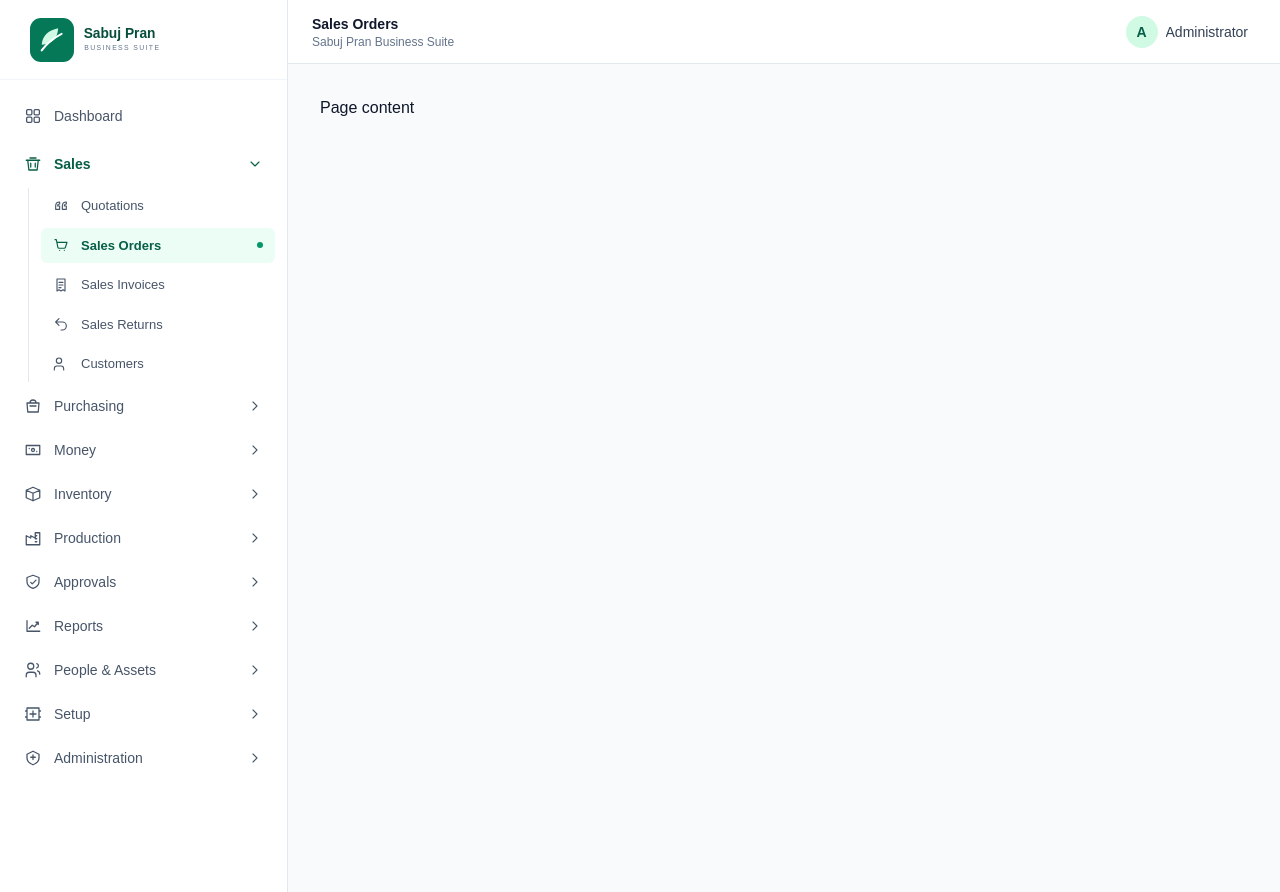
Test: SessionShell navigation › uses distinct group icons and toggles submenu items with the chevron control
Expected: the link "Purchase Orders" is not shown
What coordinates should you click on to do the following:
click the button "Purchasing"
I would click on:
 (89, 406)
Its box is [12, 386, 275, 426].
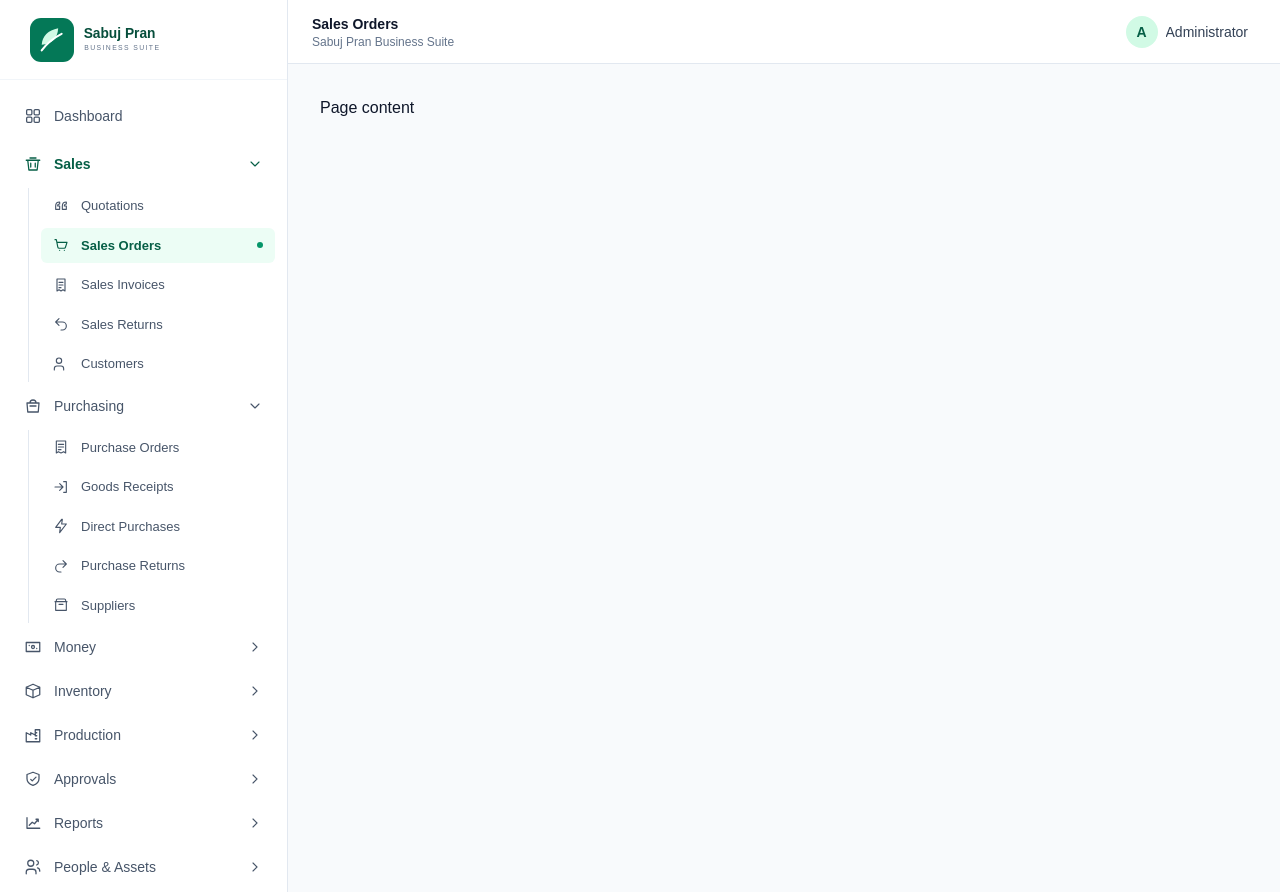
Expected: the button "Purchasing" is expanded
Expected: the link "Purchase Orders" is shown, [53, 439, 179, 455]
What coordinates should you click on to do the following:
click the button "Purchasing"
I would click on:
 (89, 406)
Its box is [12, 386, 275, 426].
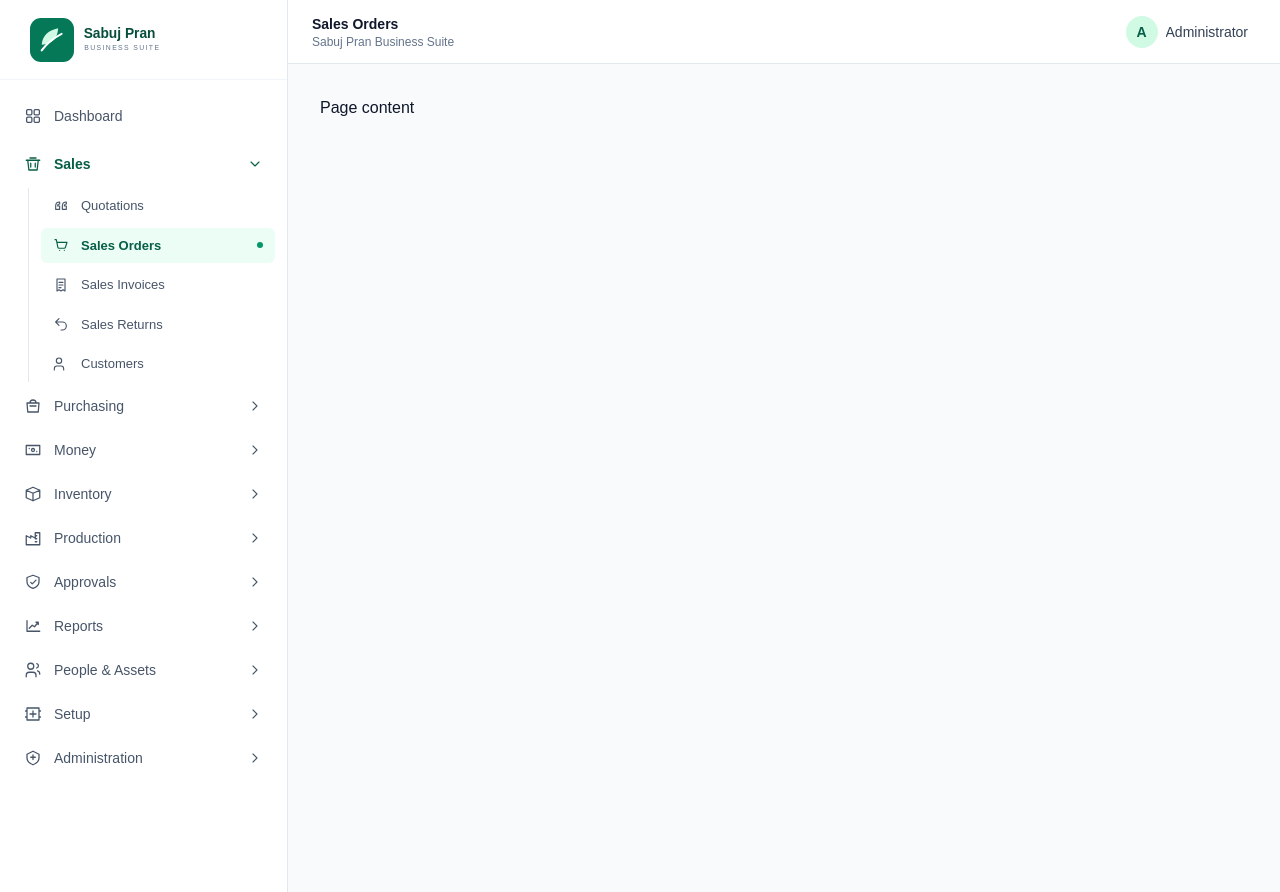
Expected: the button "Purchasing" is collapsed, [12, 386, 275, 426]
Expected: the link "Purchase Orders" is gone
